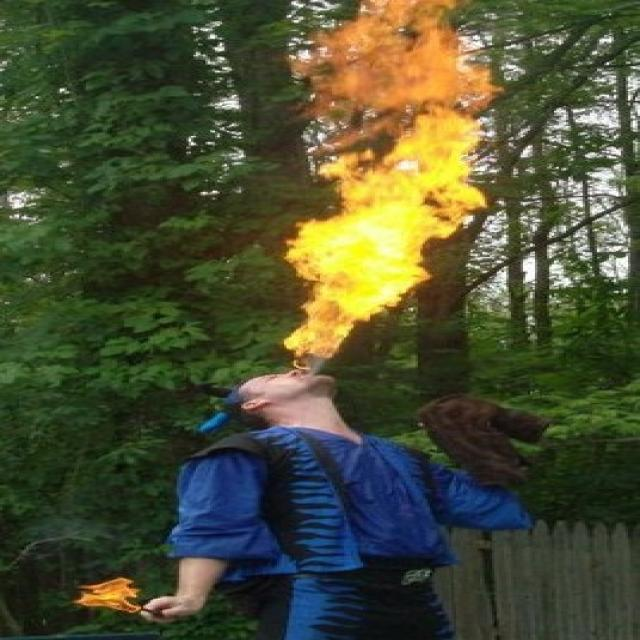fire: (288, 0, 505, 111), (311, 111, 480, 207), (283, 207, 467, 269), (284, 295, 401, 362), (296, 269, 431, 295), (72, 578, 140, 618)
